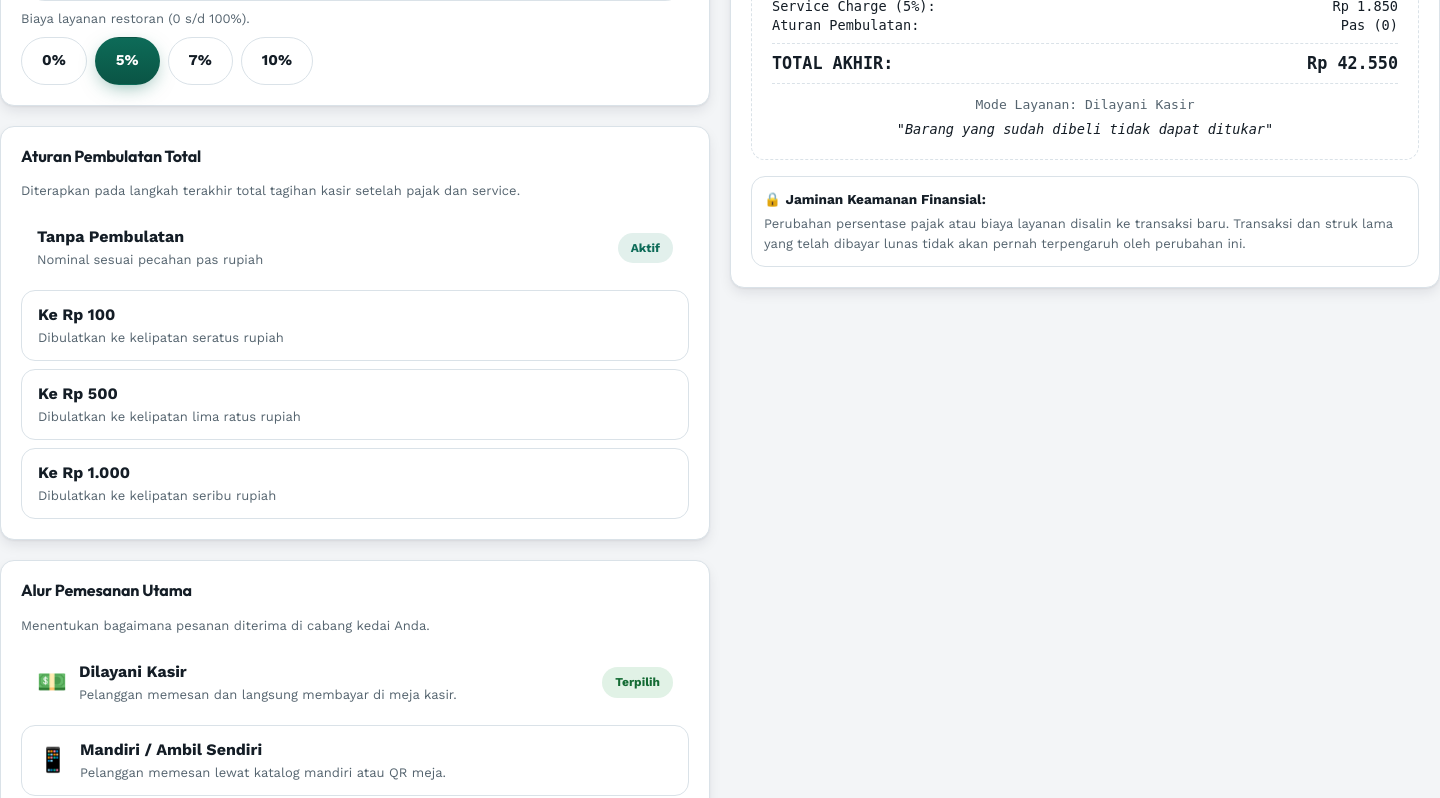
Test case: Operasional (Pengaturan Operasional & Kasir — T9-03 / PRD M2, M6 / ART-3) › dapat mengubah aturan pembulatan dan tercermin di kartu struk
(page scrolled)
Click the text "Ke Rp 500" at (78, 394), box [38,384,118,403]
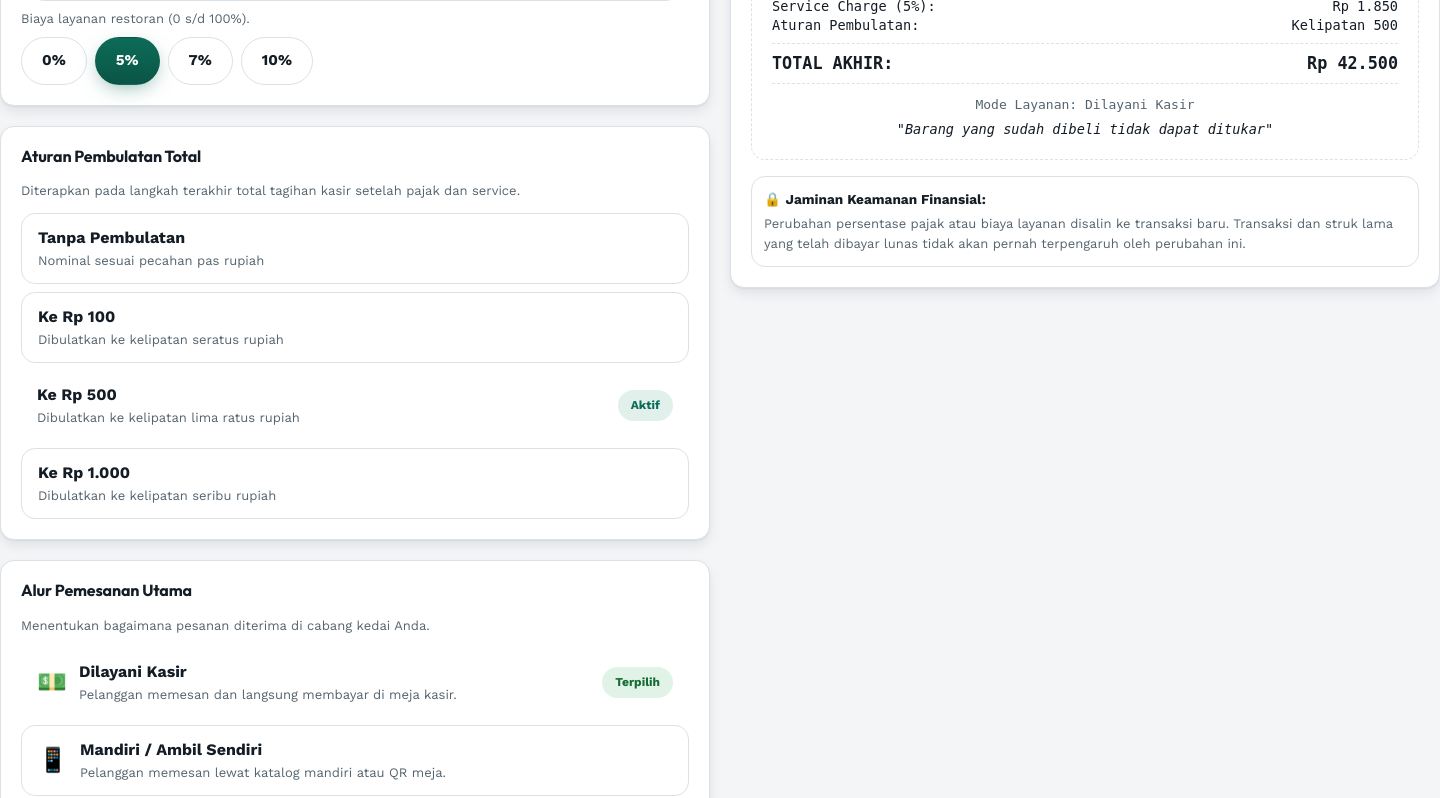
Expected: the text "Kelipatan 500" is shown, [1292,16,1398,35]
